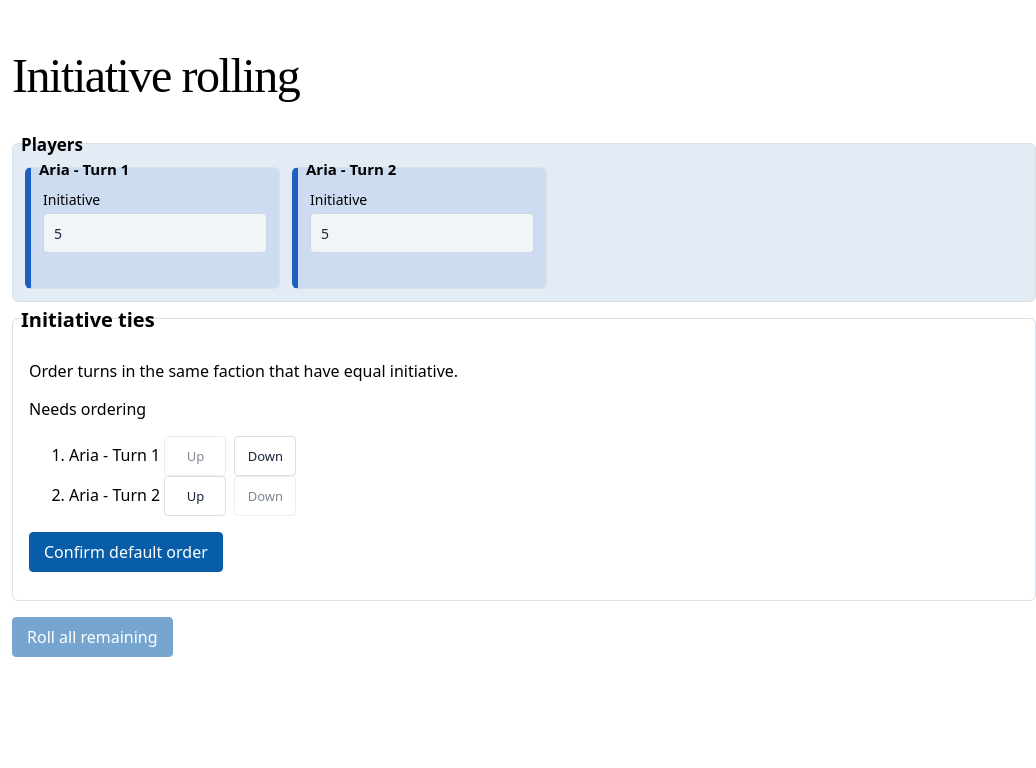
running challenge storage › lets the DM order a tie and saves the decision
Expected: the text "Needs ordering" is shown, 29,398 -> 146,420
Click the button with aria-label "Move Aria - Turn 2 earlier": (195, 496) 164,476 -> 226,516
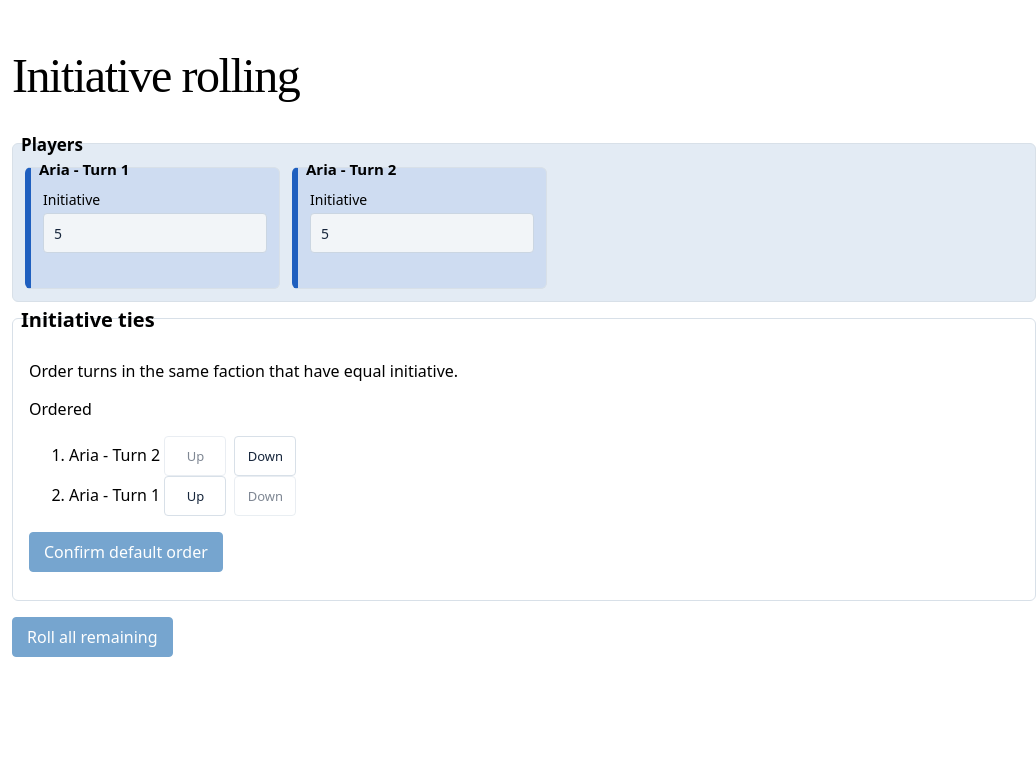
Expected: the text "Ordered" is shown, 29,398 -> 92,420
